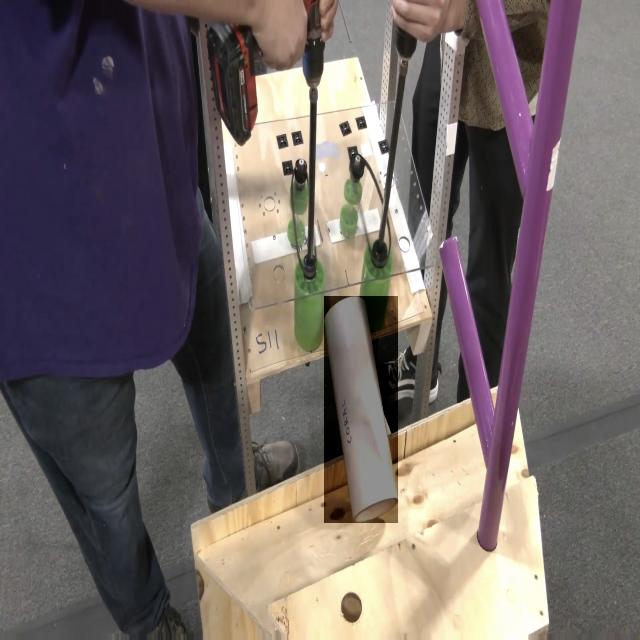Coral: (324, 296, 398, 523)
